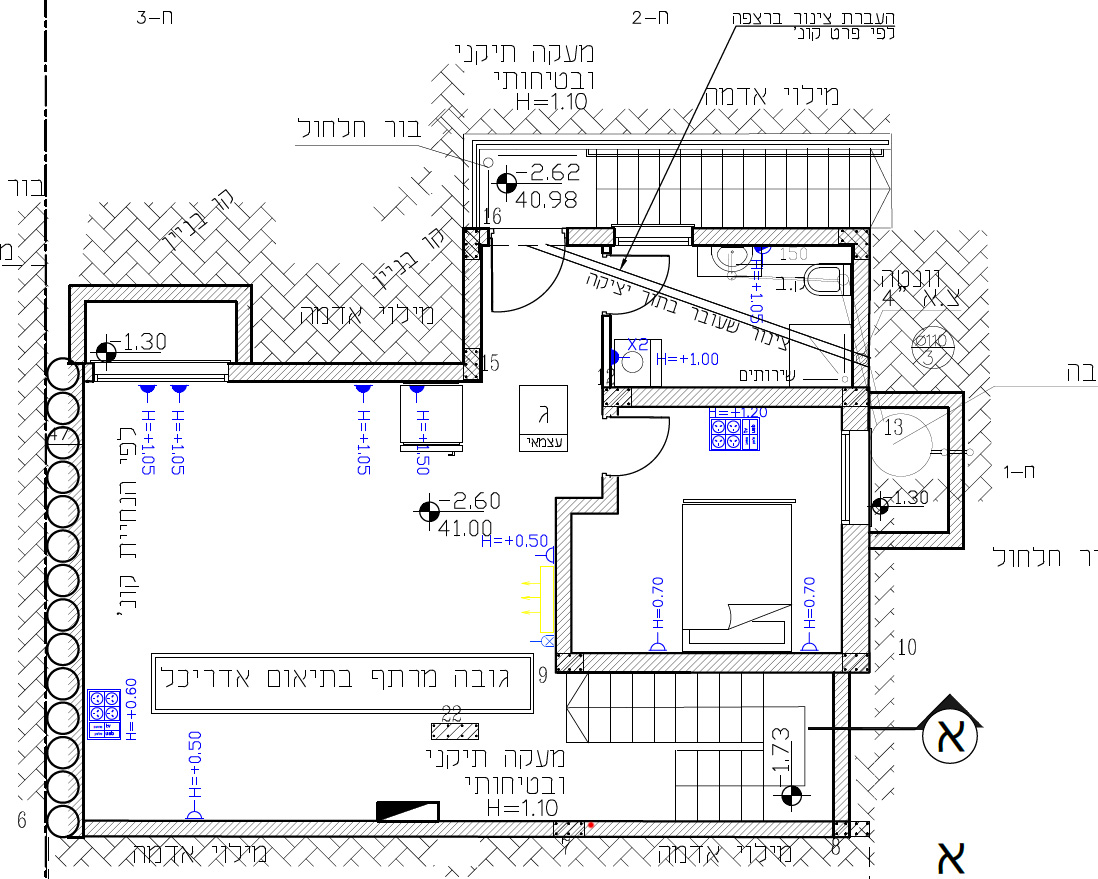door: (486, 252, 571, 321), (612, 250, 697, 319), (620, 410, 705, 479)
wall: (84, 818, 551, 834), (582, 651, 841, 673), (584, 821, 828, 836), (229, 364, 463, 379), (842, 526, 868, 656), (554, 497, 570, 655), (834, 672, 850, 830)
window: (94, 359, 229, 385), (840, 429, 872, 525), (616, 224, 693, 246)
